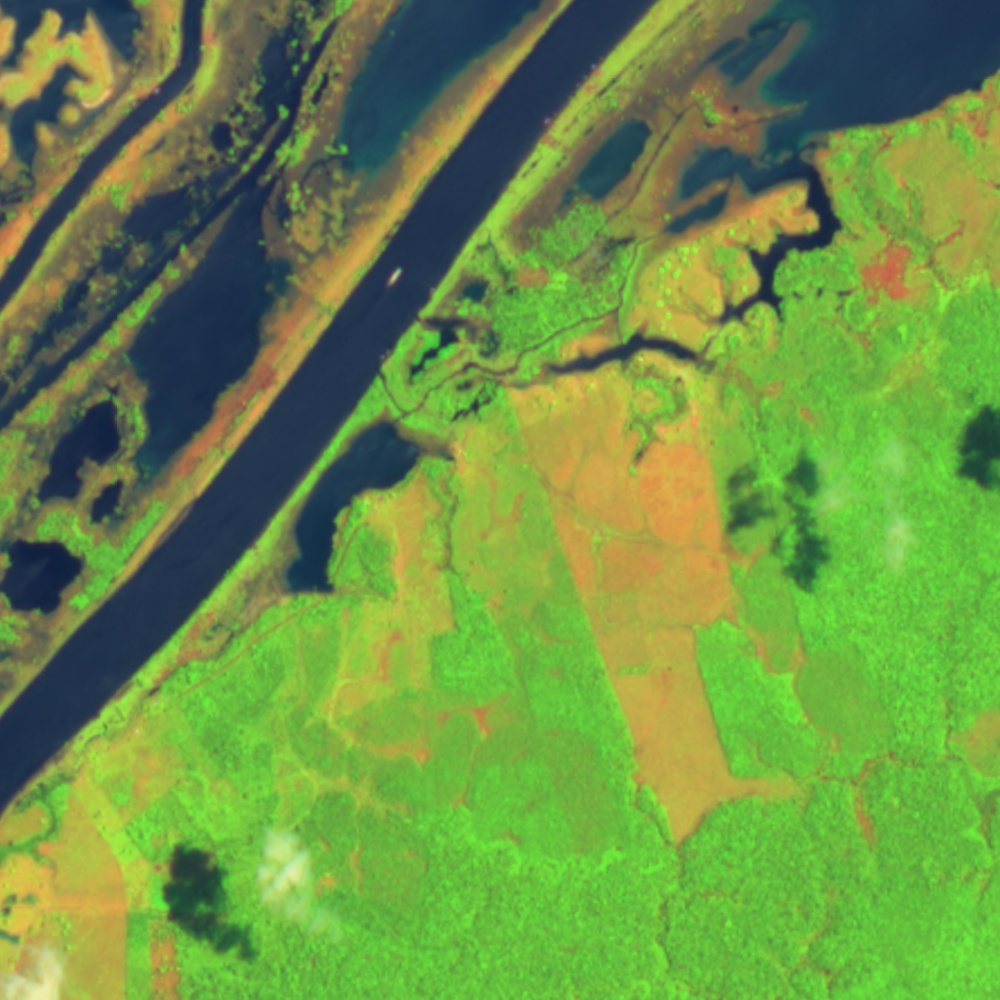legal: (1, 1, 573, 718), (425, 1, 999, 349), (492, 338, 804, 840), (1, 707, 183, 1000), (256, 693, 515, 887), (812, 736, 890, 849)
